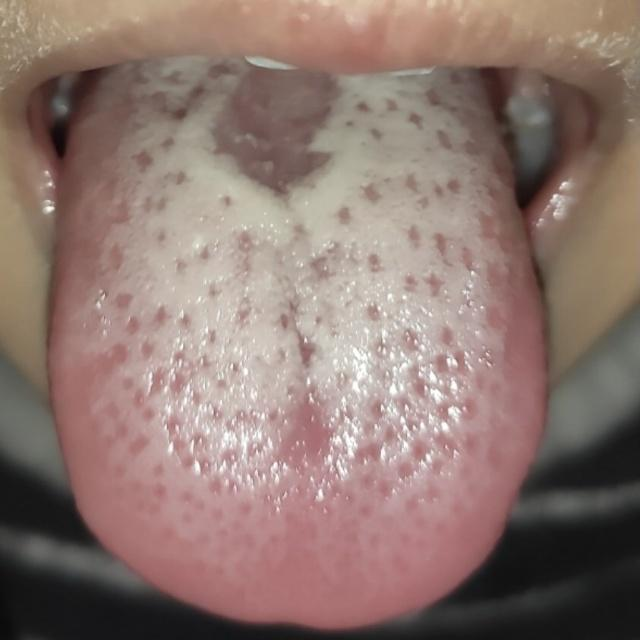botaishe: (48, 51, 550, 640)
